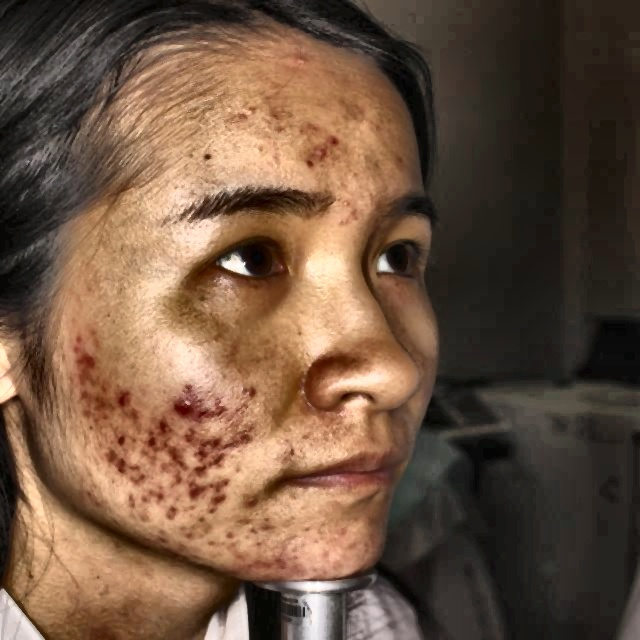papule: (199, 469, 240, 499), (238, 376, 273, 410), (150, 498, 185, 532), (196, 436, 224, 474), (62, 387, 101, 414), (146, 416, 182, 444), (160, 383, 192, 414), (161, 448, 193, 478), (280, 46, 312, 74), (68, 366, 112, 386), (229, 420, 256, 452), (62, 320, 89, 352), (210, 394, 243, 420), (202, 488, 227, 522), (114, 382, 141, 410), (245, 560, 281, 581), (76, 347, 105, 373), (96, 425, 134, 444), (122, 479, 145, 509), (90, 444, 124, 464), (180, 422, 204, 450), (112, 456, 141, 479), (146, 480, 172, 505), (241, 488, 259, 519), (302, 143, 328, 164), (136, 428, 158, 452), (205, 418, 223, 445), (294, 557, 312, 583), (190, 468, 202, 499), (328, 126, 344, 140), (202, 401, 212, 421)
